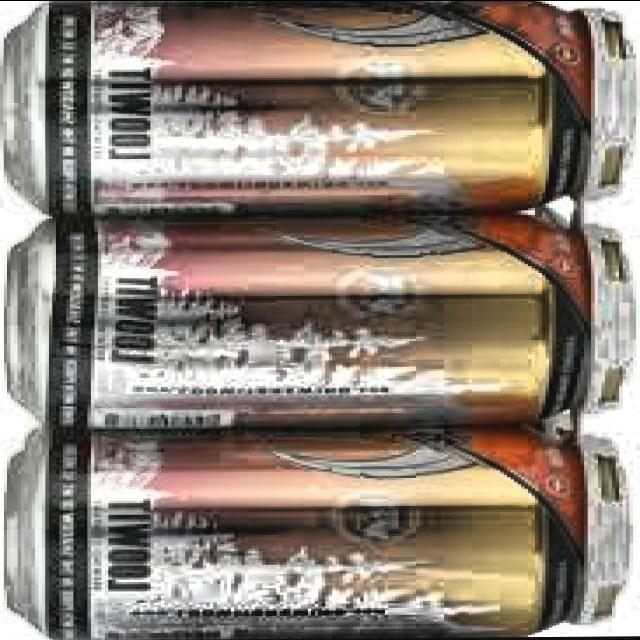litter: (0, 209, 640, 429), (0, 422, 640, 640), (0, 0, 640, 213)
